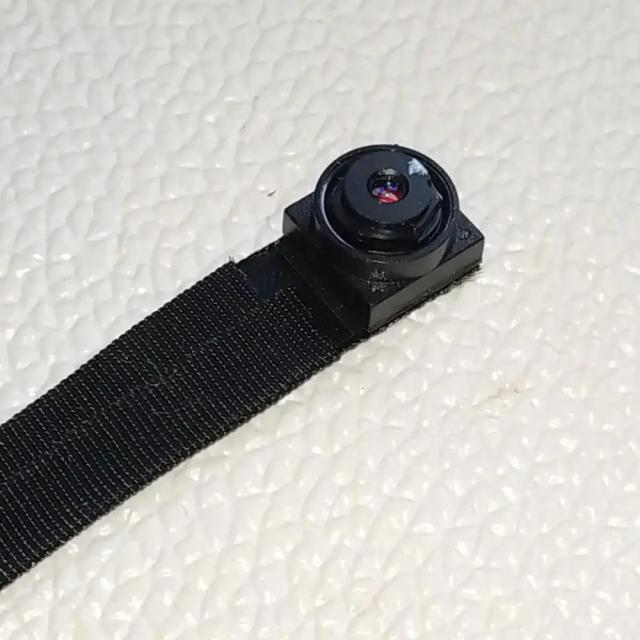hidden camera: (362, 163, 415, 208)
